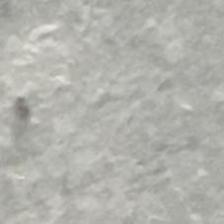Non_Crack: (12, 32, 216, 215)
